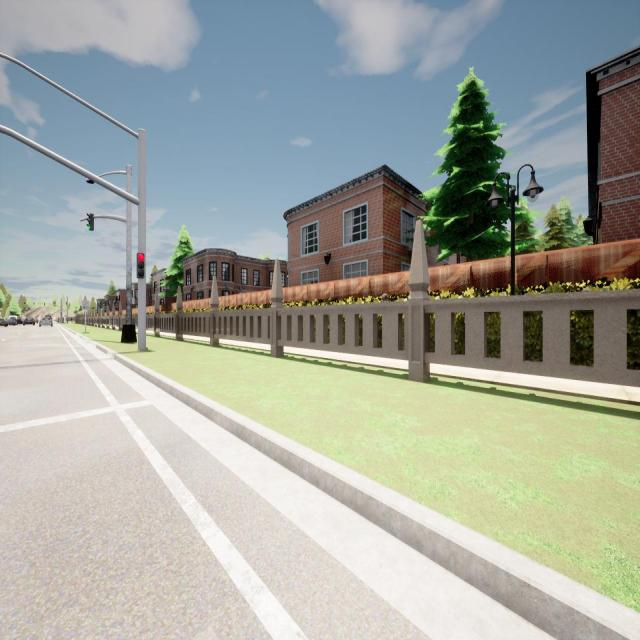Traffic_Signs: (82, 300, 90, 310)
Vehicle: (39, 317, 53, 327), (23, 318, 35, 326), (8, 318, 16, 326), (0, 319, 8, 327), (9, 315, 18, 319), (18, 320, 22, 326), (34, 318, 38, 323)
traffic_light: (136, 252, 144, 278), (86, 213, 94, 231), (66, 301, 67, 305), (60, 312, 61, 315), (44, 303, 45, 305), (34, 302, 34, 305)
